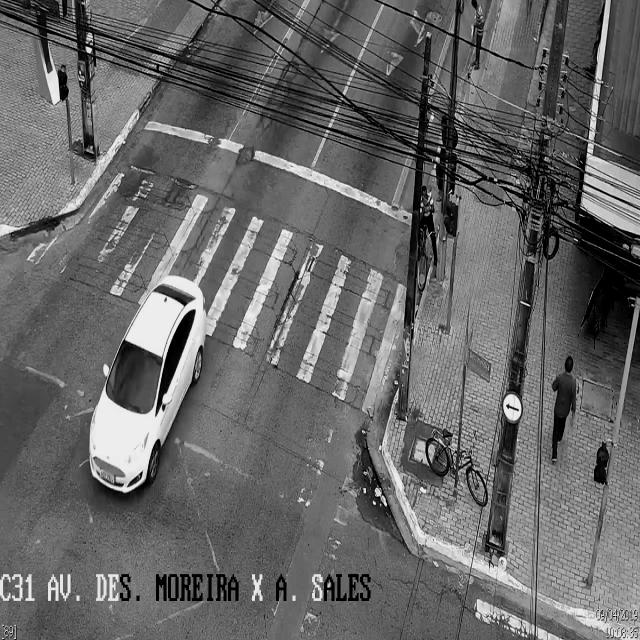Car: (88, 275, 205, 497)
